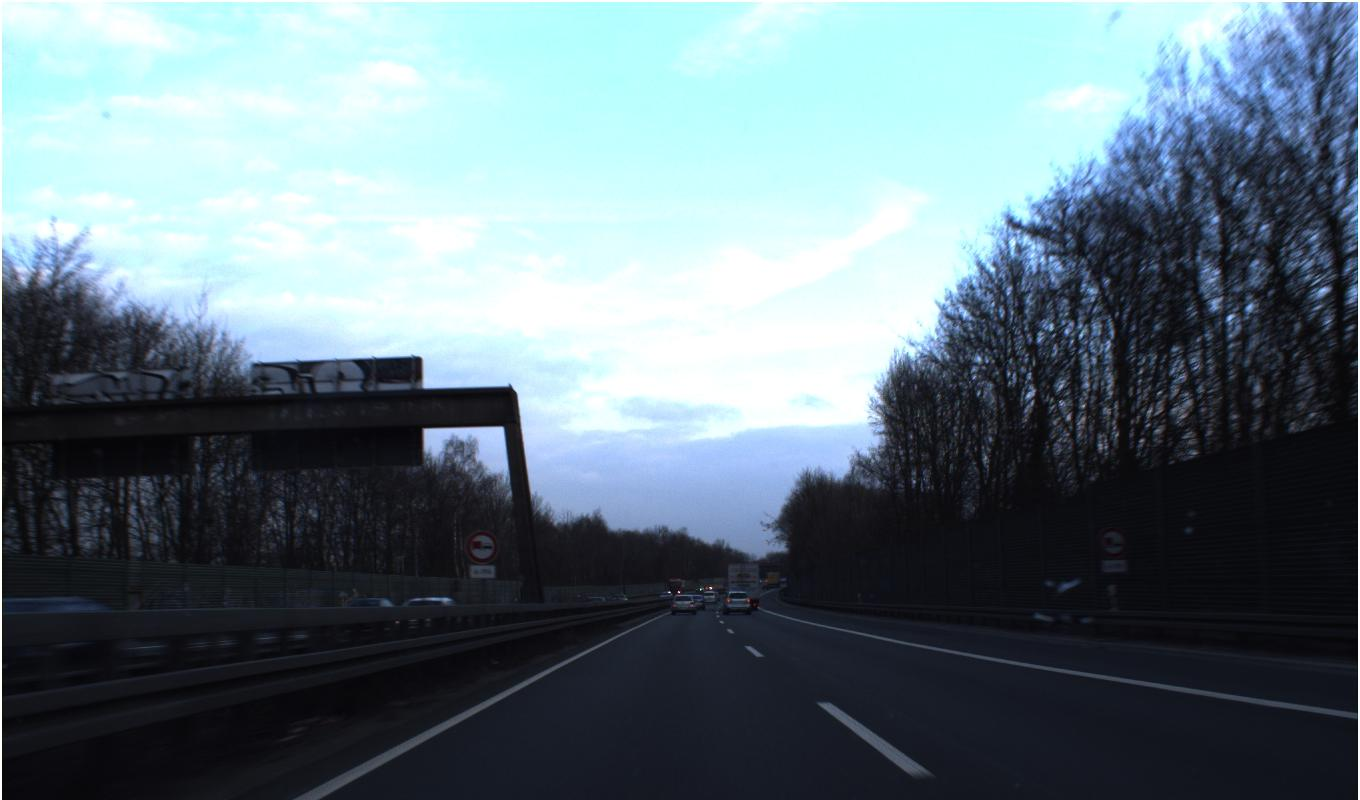prohibitory: (463, 528, 500, 565), (1095, 524, 1130, 560)
